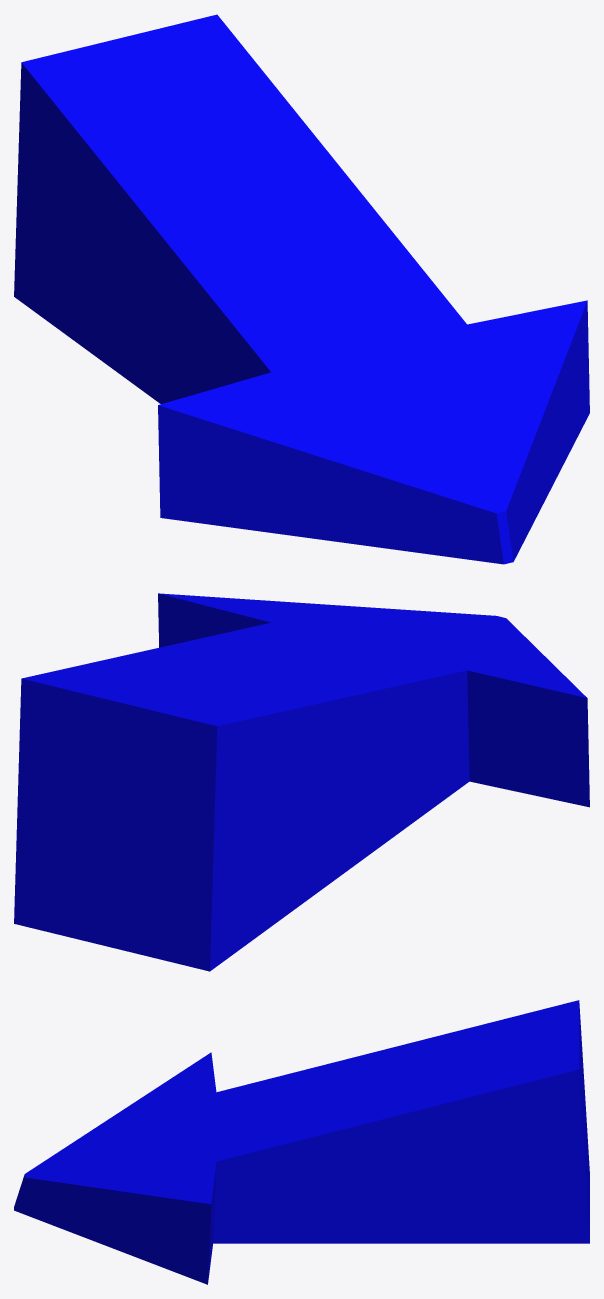
The model's file is flecha.obj.
The picture shows the model from 3 angles, top to bottom: view 1: azimuth 30°, elevation 25°; view 2: azimuth 150°, elevation 25°; view 3: azimuth 270°, elevation 25°; orthographic projection. The views are drawn at different scales.
Visible parts, largest first — view 1: pCube1; view 2: pCube1; view 3: pCube1.
Boxes of the visible parts, x1,y1,x2,y2 form: pCube1: [14, 14, 589, 564]; pCube1: [14, 593, 589, 971]; pCube1: [14, 1000, 589, 1284].
Bounding box in the file's own units: 2.19 × 1.17 × 3.51.
